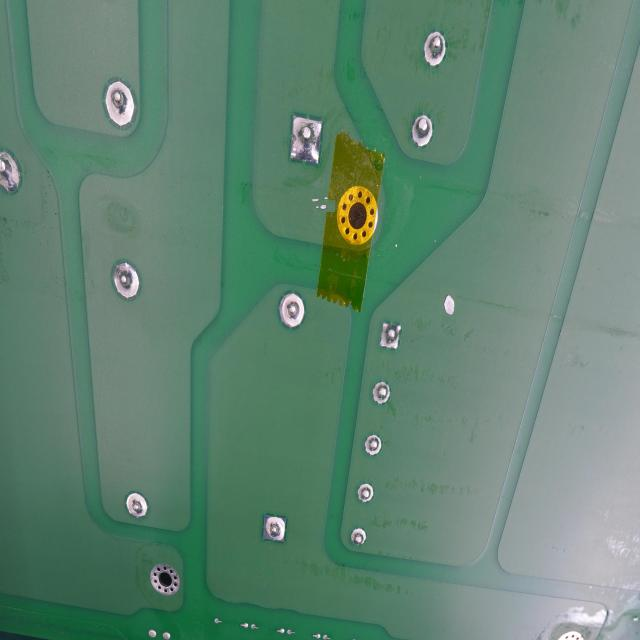spillover: (440, 286, 456, 324), (309, 194, 331, 216)
